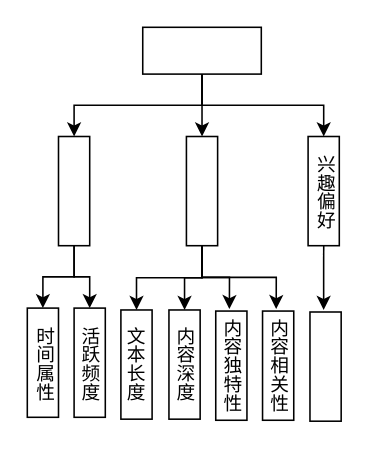
Image size: 370x449. Some labels were removed from this diagram. The box of each missing label's shape, as (x1, y1, x2, y2) in pixels:
弹幕价值: (185, 135, 218, 246)
标签体系: (141, 26, 261, 74)
行为属性: (57, 135, 90, 246)
话题偏好: (308, 310, 341, 421)
